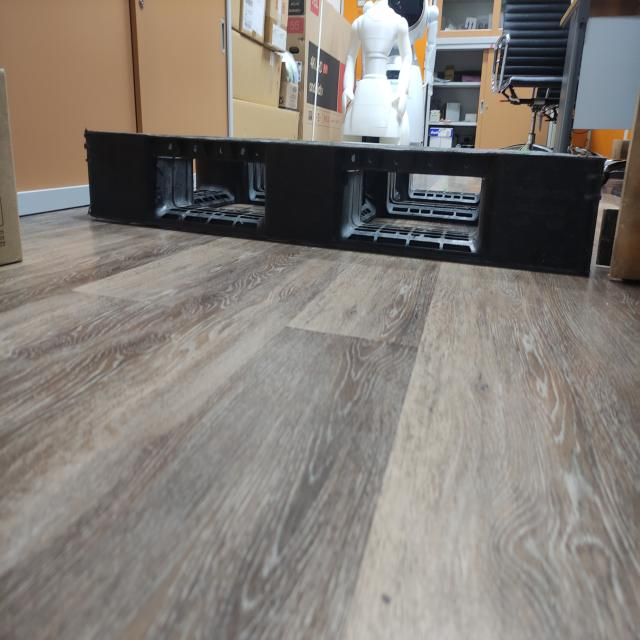block: (483, 156, 602, 276), (261, 140, 344, 247), (80, 127, 163, 228)
front: (79, 125, 596, 281)
